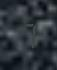seven: (19, 19, 35, 50)
